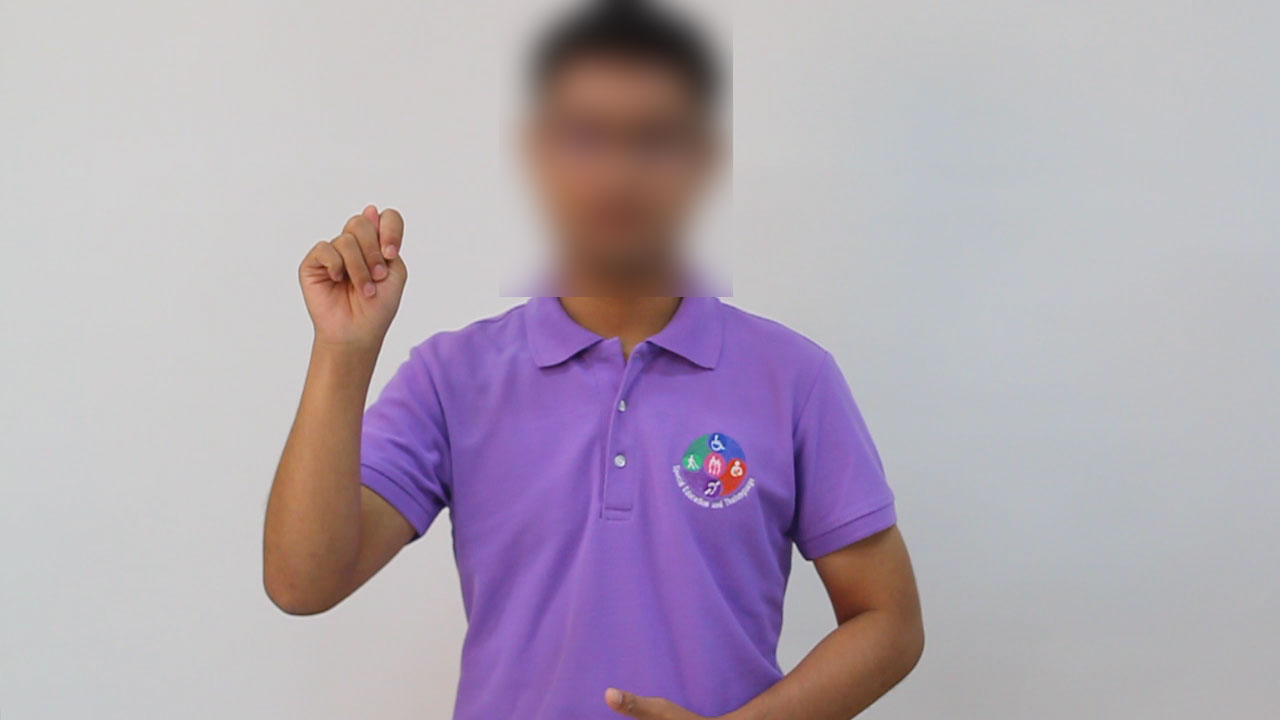tor: (286, 199, 435, 358)
